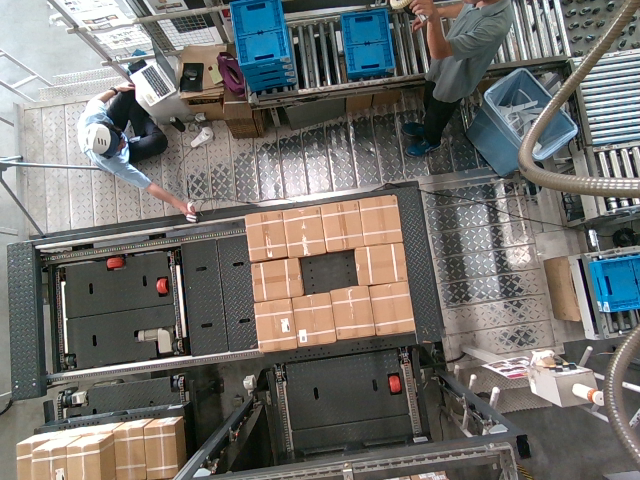box: (251, 259, 303, 303), (355, 240, 407, 284), (244, 212, 285, 261), (283, 206, 324, 255), (318, 201, 359, 250), (359, 194, 400, 243), (371, 285, 412, 334), (332, 289, 373, 338), (294, 294, 335, 343), (253, 301, 294, 350)
